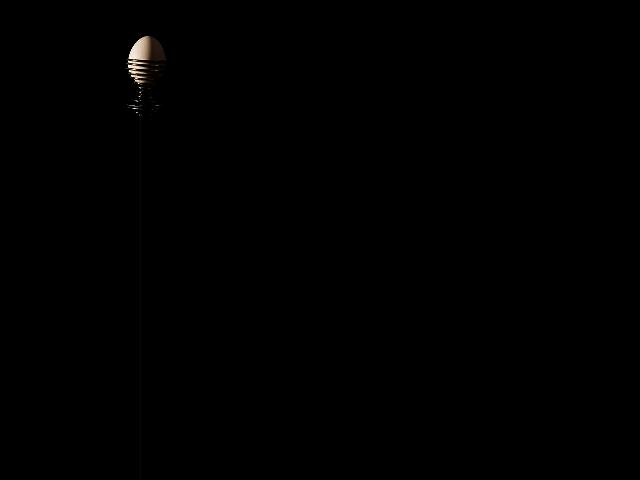egg: (127, 35, 165, 84)
